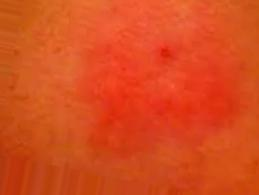Tick: (80, 0, 236, 129)
